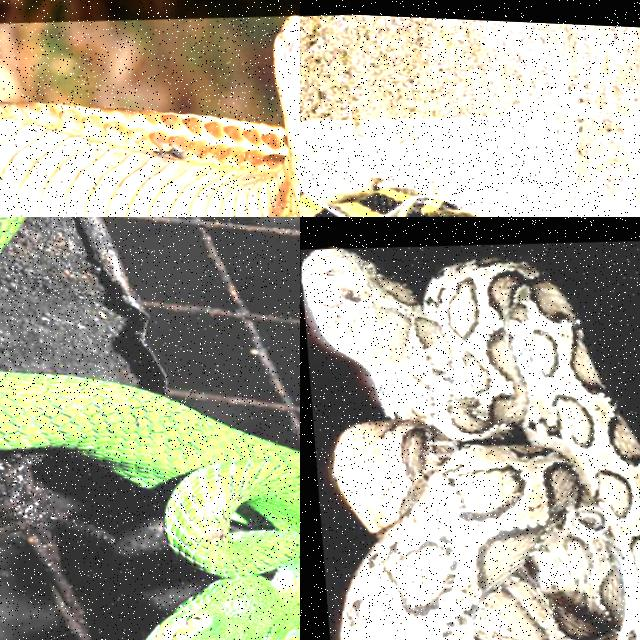Bungarus fasciatus: (300, 189, 492, 216)
Daboia siamensis: (301, 248, 639, 639)
Ophiophagus hannah: (0, 17, 299, 216)
Trimeresurus macrops: (0, 372, 299, 639)
snake: (301, 248, 639, 639), (0, 372, 299, 639), (0, 17, 299, 216), (300, 189, 492, 216)
